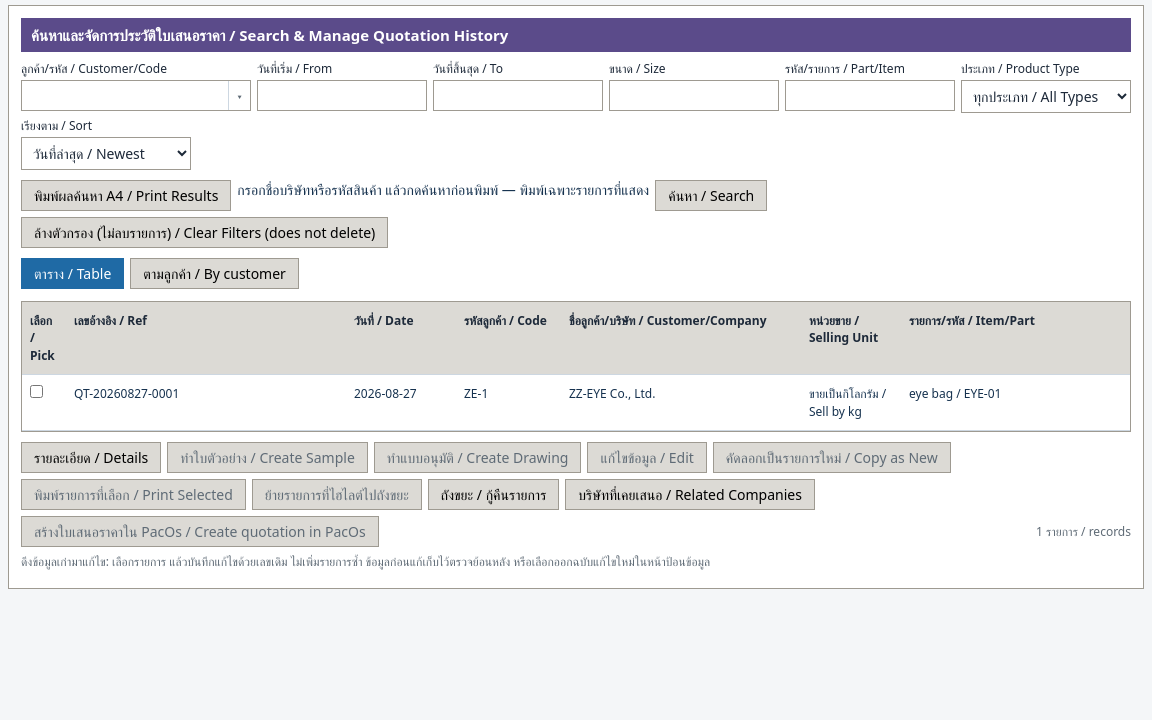
Test case: the history filters and buttons › rowButtons_stayDisabled_untilARowIsChosen
Check: the button "แก้ไขข้อมูล / Edit" is disabled, box [588, 442, 707, 473]
Check: the button "ย้ายรายการที่ไฮไลต์ไปถังขยะ" is disabled, box [252, 479, 422, 510]
Click the text "ZZ-EYE Co., Ltd.".
click(681, 403)  # box [561, 375, 801, 430]
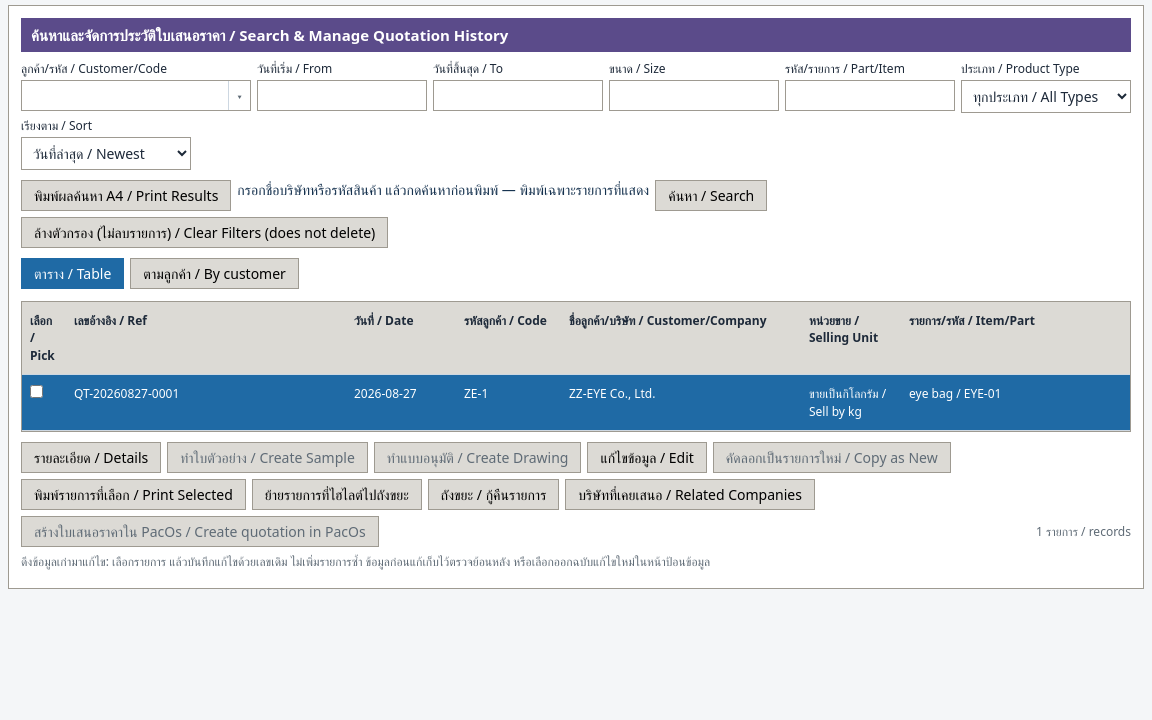
Check: the button "แก้ไขข้อมูล / Edit" is enabled, box [588, 442, 707, 473]
Check: the button "ย้ายรายการที่ไฮไลต์ไปถังขยะ" is enabled, box [252, 479, 422, 510]
